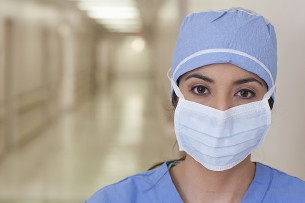Mask: (174, 64, 281, 171)
